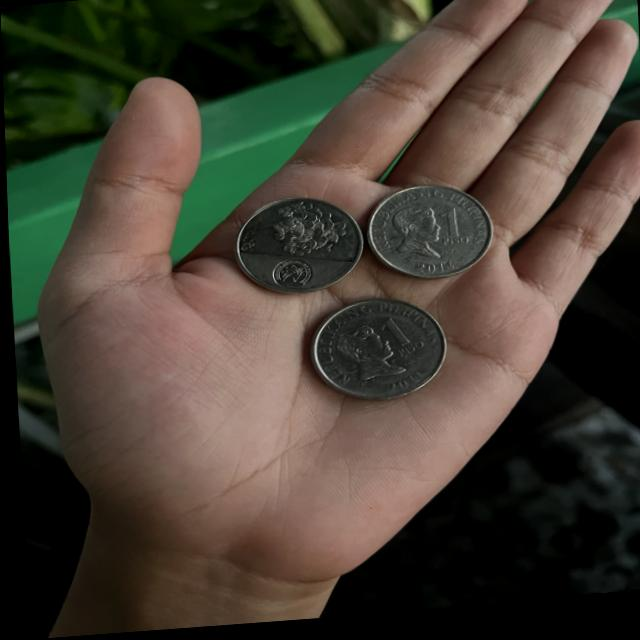1_New_Back: (253, 204, 355, 262)
1_Old_Front: (425, 197, 478, 256), (374, 314, 419, 361)
